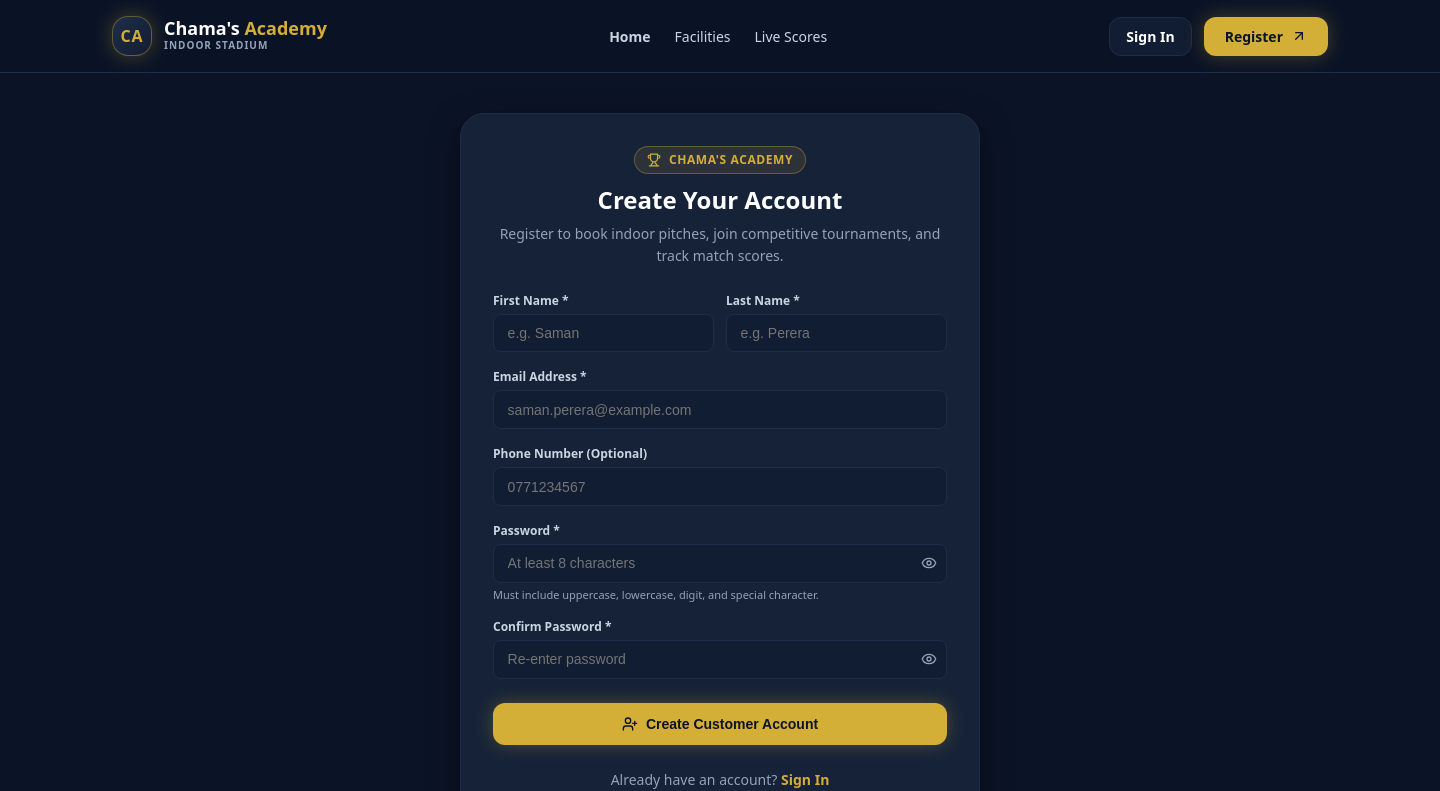
Test: Registration Page Component and Flow › enforces client-side validation on empty inputs and displays errors
The image size is (1440, 791).
What coordinates should you click on to do the following:
click the button "Create Customer Account"
I would click on:
 (720, 724)
Its box is [493,703,947,745].
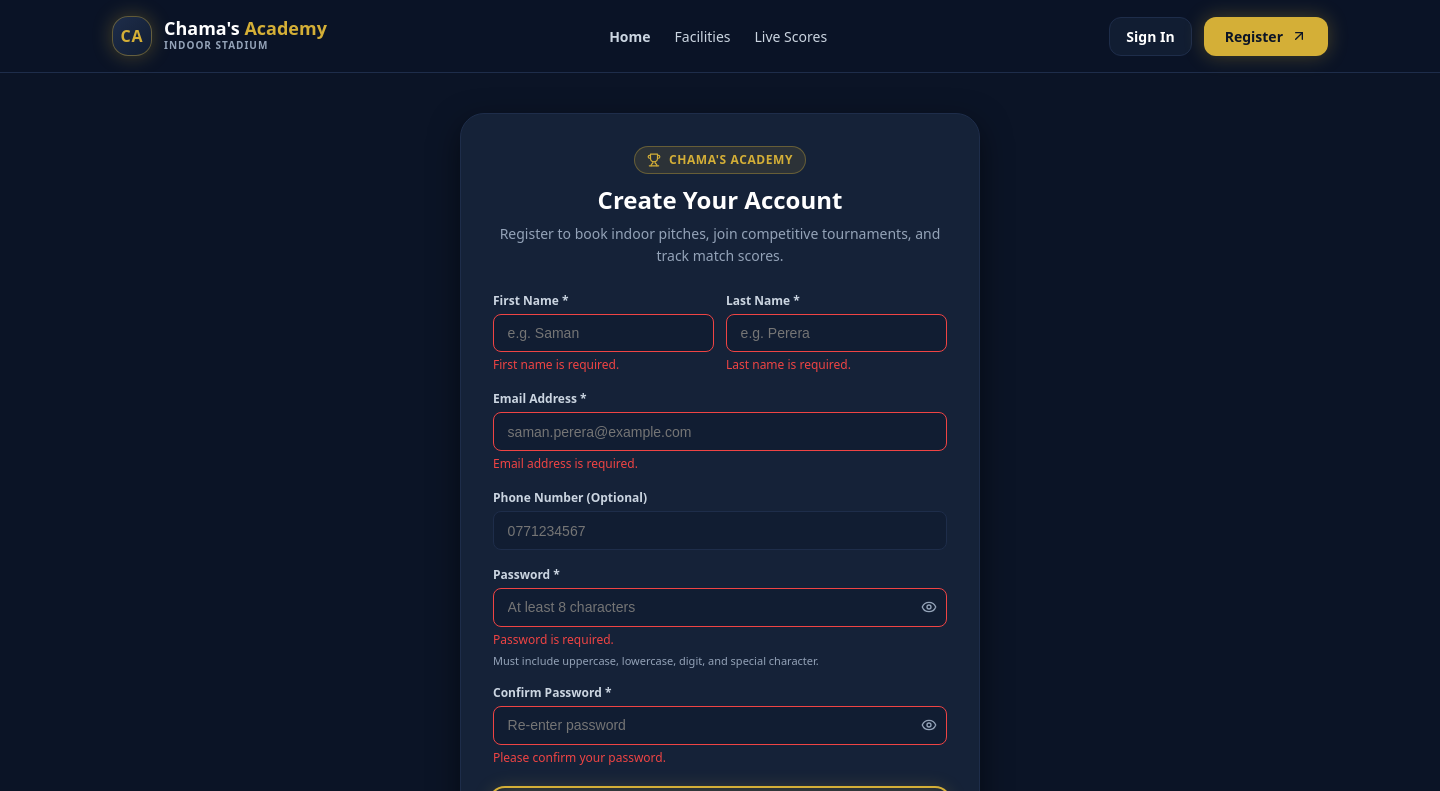
Result: the text "First name is required." is shown at [493,356,619,373]
Result: the text "Last name is required." is shown at [726,356,851,373]
Result: the text "Email address is required." is shown at [493,455,638,472]
